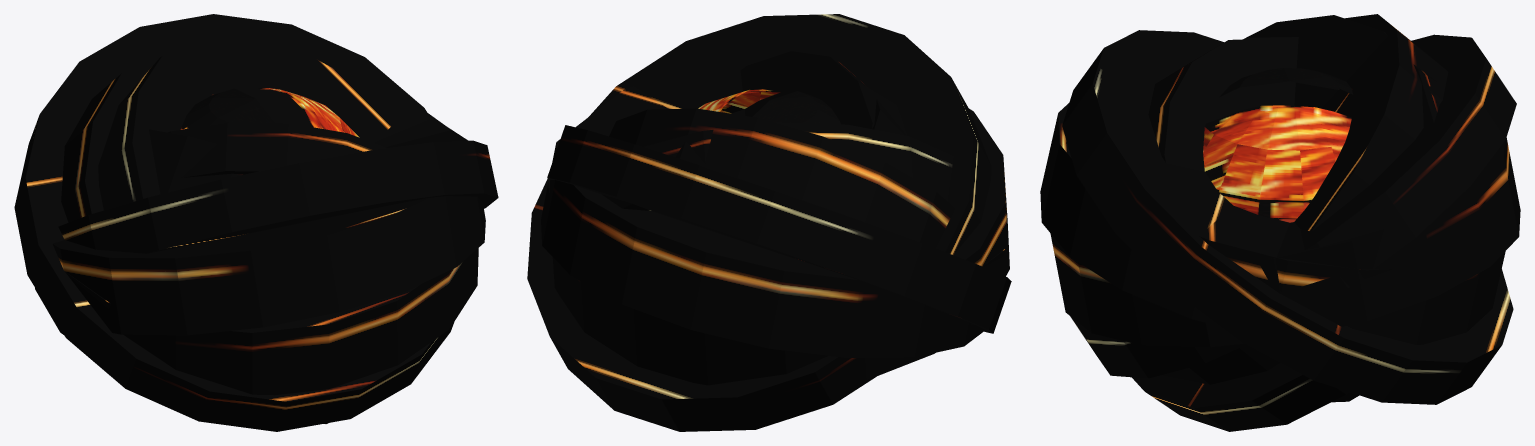
File: frame_071.obj
3 views of the same model, side by side, from view 1: azimuth 30°, elevation 25°; view 2: azimuth 150°, elevation 25°; view 3: azimuth 270°, elevation 25° (orthographic). The views are drawn at different scales.
Visible parts, largest first — view 1: cylinder, sphere; view 2: cylinder, sphere; view 3: cylinder, sphere.
Part boxes in pixels (x1,y1,x2,y2): cylinder: (14,14,498,431); sphere: (180,88,359,137); cylinder: (527,14,1011,431); sphere: (698,89,840,124); cylinder: (1040,14,1520,431); sphere: (1203,68,1353,222).
Bounding box in the file's own units: 1.12 × 0.8038 × 1.04.
Materials: 5 (5 with a texture image).
